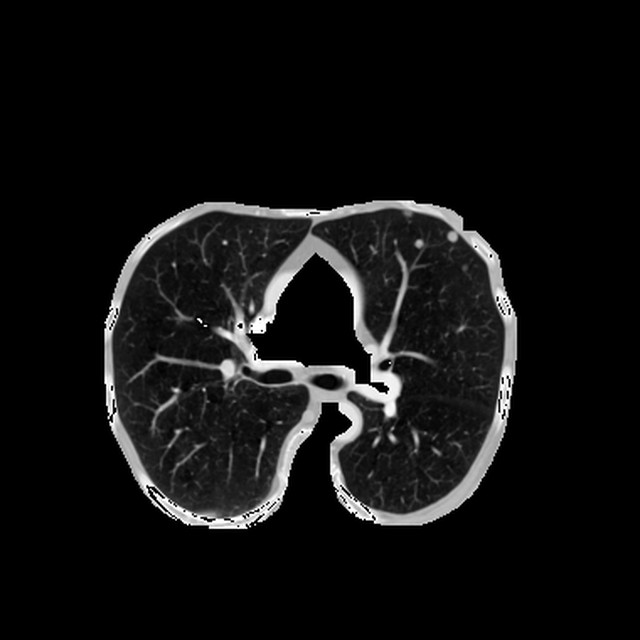PN: (414, 237, 424, 248)
